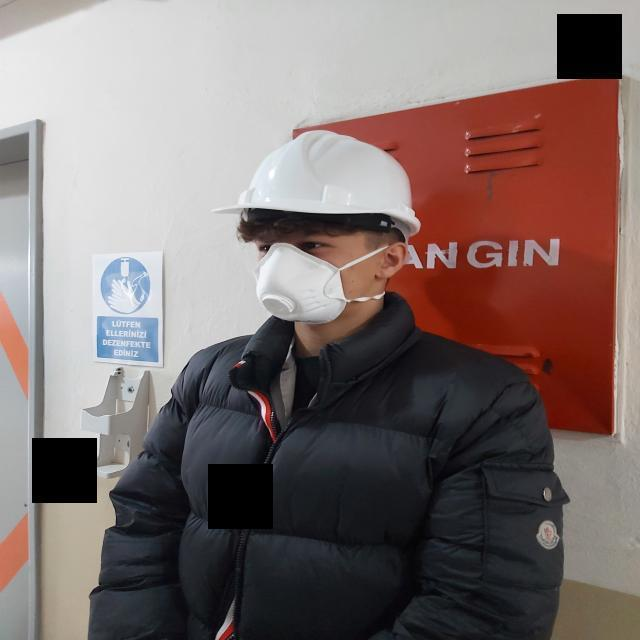helmet: (210, 128, 421, 242)
